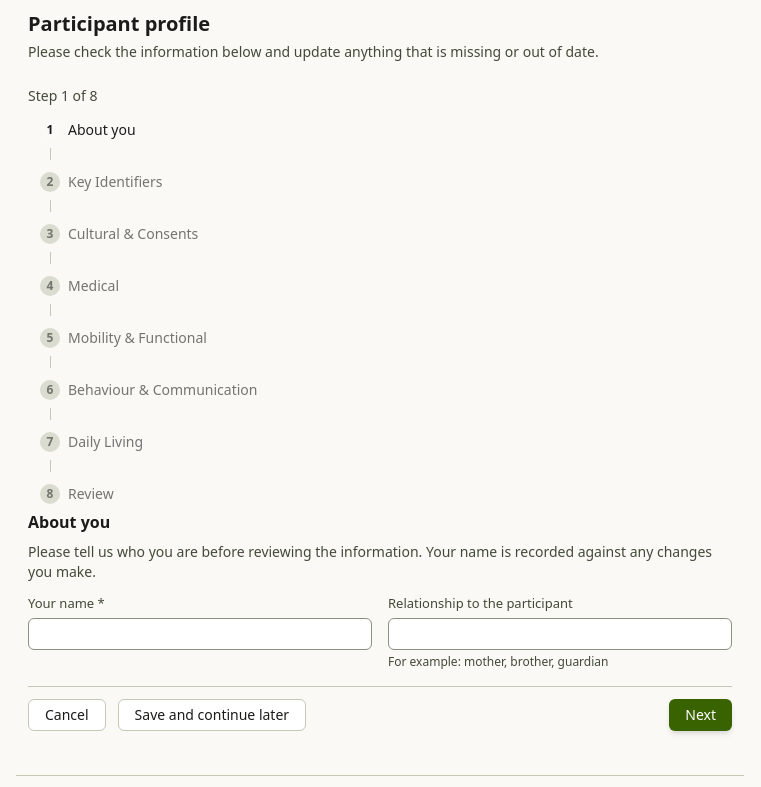
CaregiverWizardPage - typing while a save is in flight › keeps what was typed between clicking Save and continue later and the refetch landing
Step 1. Type "Jane Doe" into the field labelled "Your name *" → {"x": 200, "y": 634}, box [28,618,372,650]
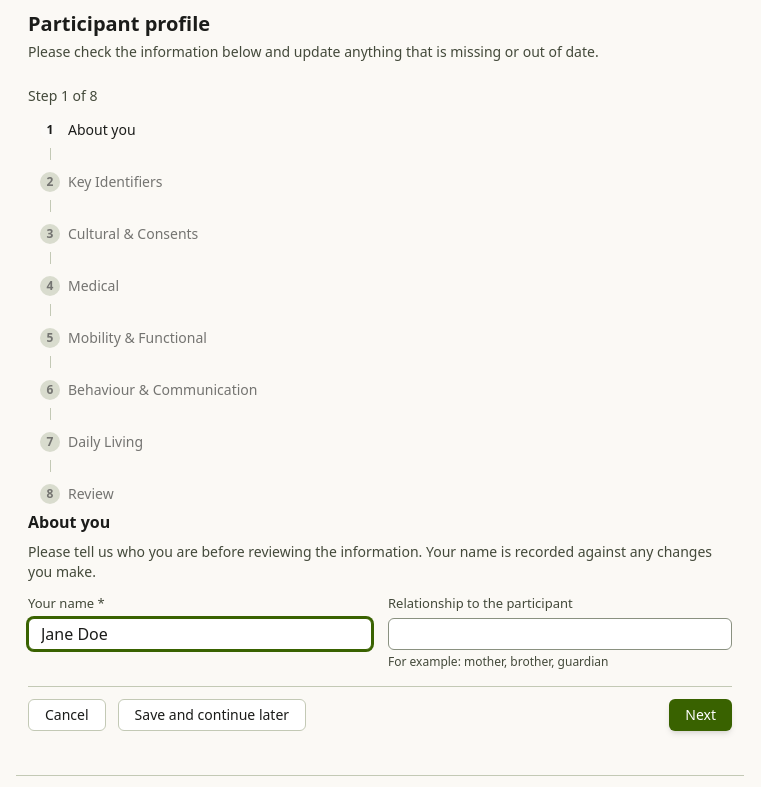
Step 2. Click the button "Save and continue later" → {"x": 212, "y": 714}, box [118,698,306,730]
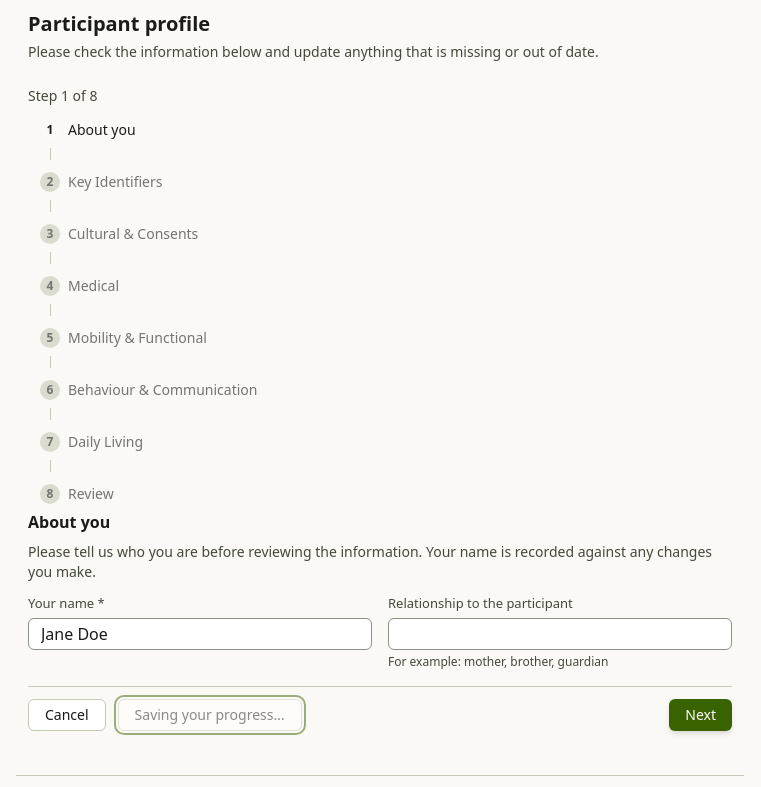
Step 3. Type "Mother" into the field labelled "Relationship to the participant" → {"x": 560, "y": 634}, box [388,618,732,650]
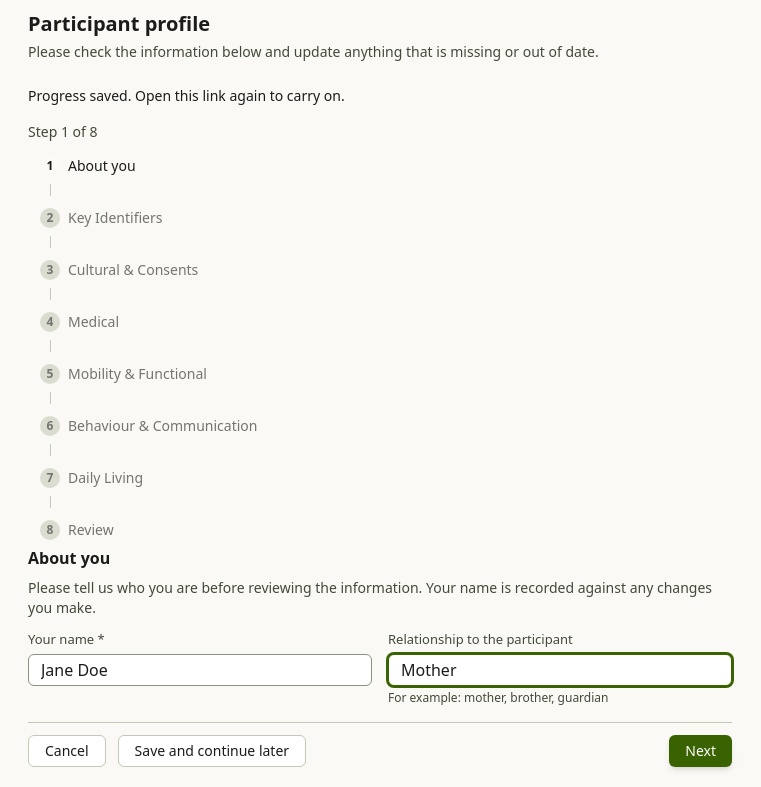
Check: the text "Progress saved. Open this link again to carry on." is shown, box [28,86,345,105]
